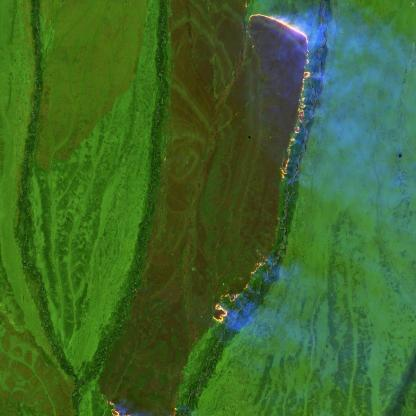fire: (205, 0, 314, 339), (93, 383, 184, 416)
